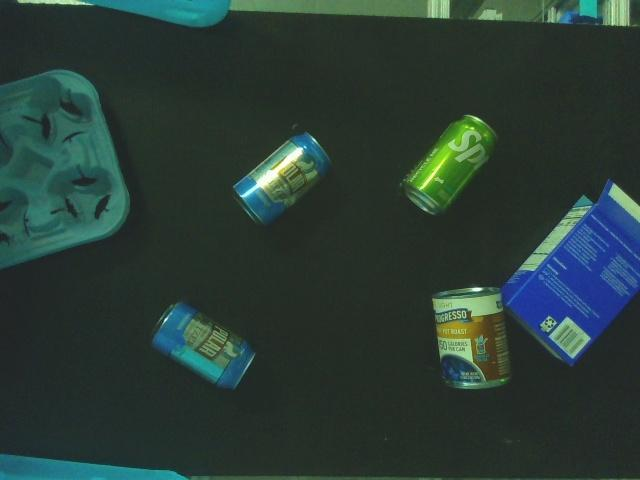cardboard: (497, 180, 640, 368), (0, 64, 129, 270)
metal: (401, 111, 503, 221), (148, 300, 260, 394), (232, 130, 332, 224), (429, 284, 514, 392)
